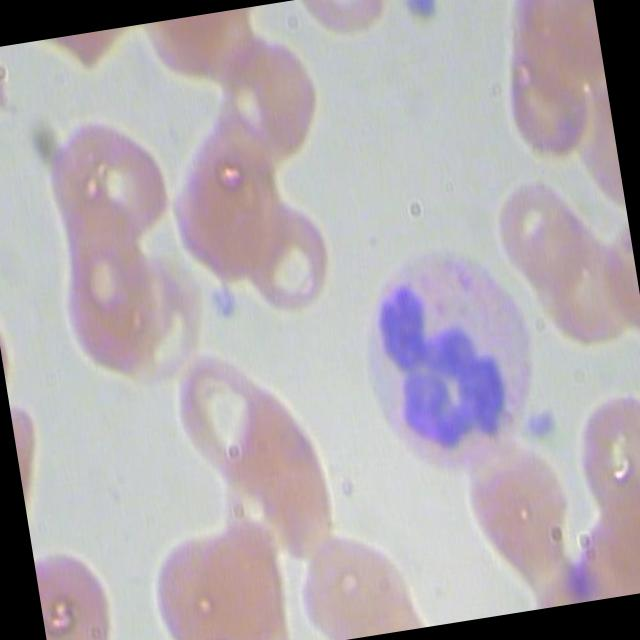Platelets: (200, 276, 246, 323), (519, 401, 564, 448), (401, 0, 446, 21)
RBC: (27, 99, 185, 257), (45, 214, 176, 390), (205, 24, 342, 180), (133, 508, 286, 640), (162, 340, 286, 488), (492, 170, 624, 309), (490, 0, 602, 161), (283, 507, 418, 640), (516, 211, 640, 350), (229, 185, 350, 322), (166, 113, 287, 250), (30, 512, 136, 640)
WBC: (350, 224, 558, 486)
